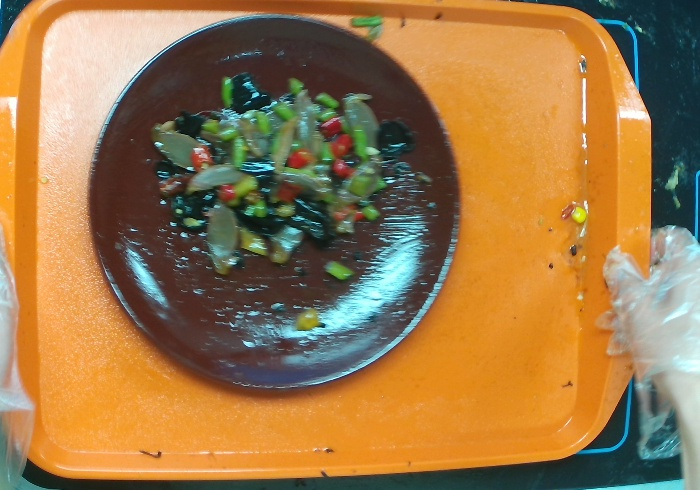HZYJPL-Ka_Fei_Yuan_Pan: (84, 11, 462, 392)
